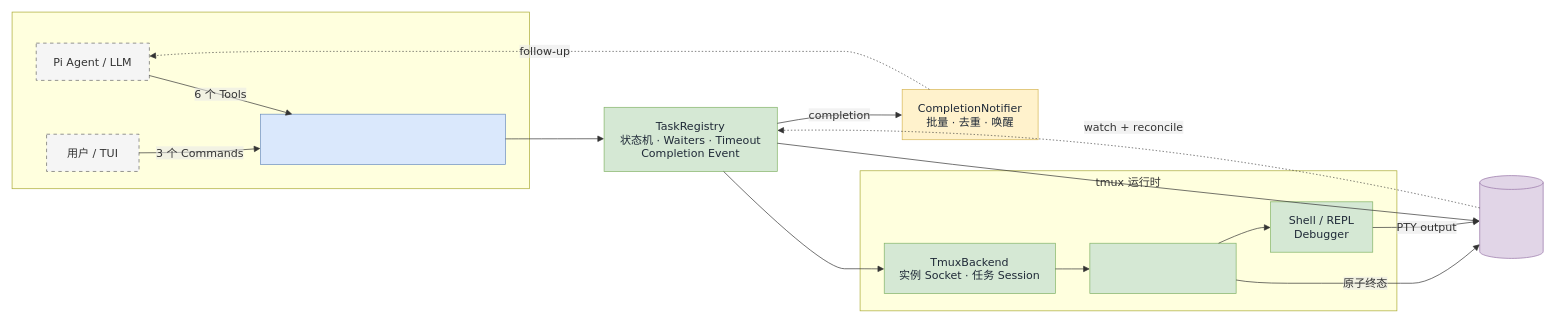
This 1555x323 diagram has some shape labels left out. Each missing label, with the box of its shape:
Extension 层 Tools · Commands · Lifecycle · Renderers: (260, 114, 505, 165)
Pi 接口: (11, 11, 530, 189)
Task Runner start gate · shell -lc: (1089, 243, 1236, 294)
TaskStore meta.json output.log result.json: (1479, 175, 1543, 258)
